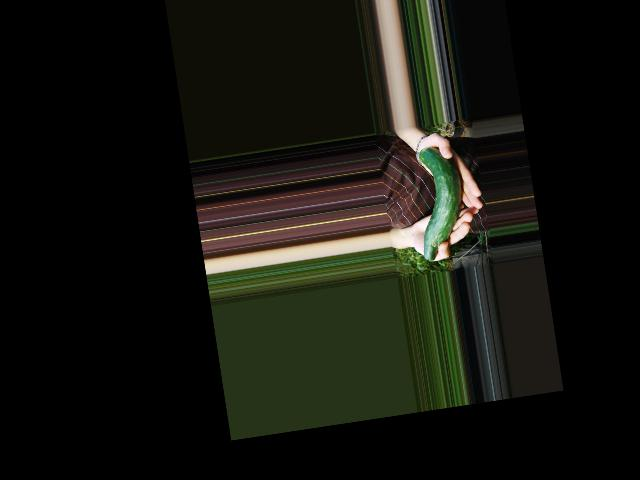cucumber: (408, 142, 471, 261)
